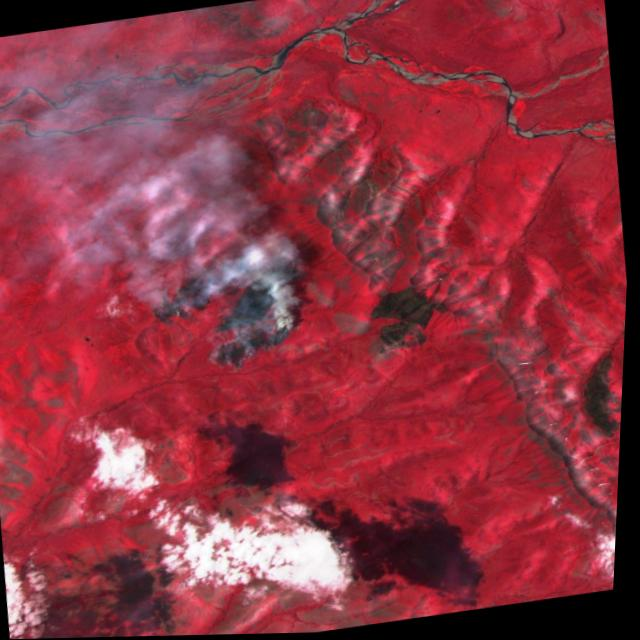fire: (193, 260, 331, 368), (128, 277, 194, 340)
